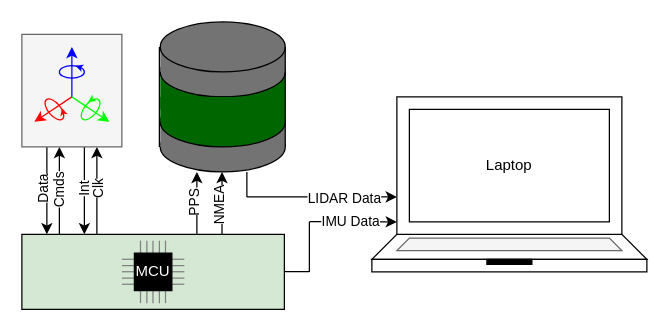
The diagram is 669 pixels wide and 331 high, and some of its shapes have lost their labels. The shapes that lost their labels are listed below. From the top down, each one's centre as x and y in pixels, then its label:
At pixel 71 90: "IMU".
At pixel 222 108: "LIDAR".
